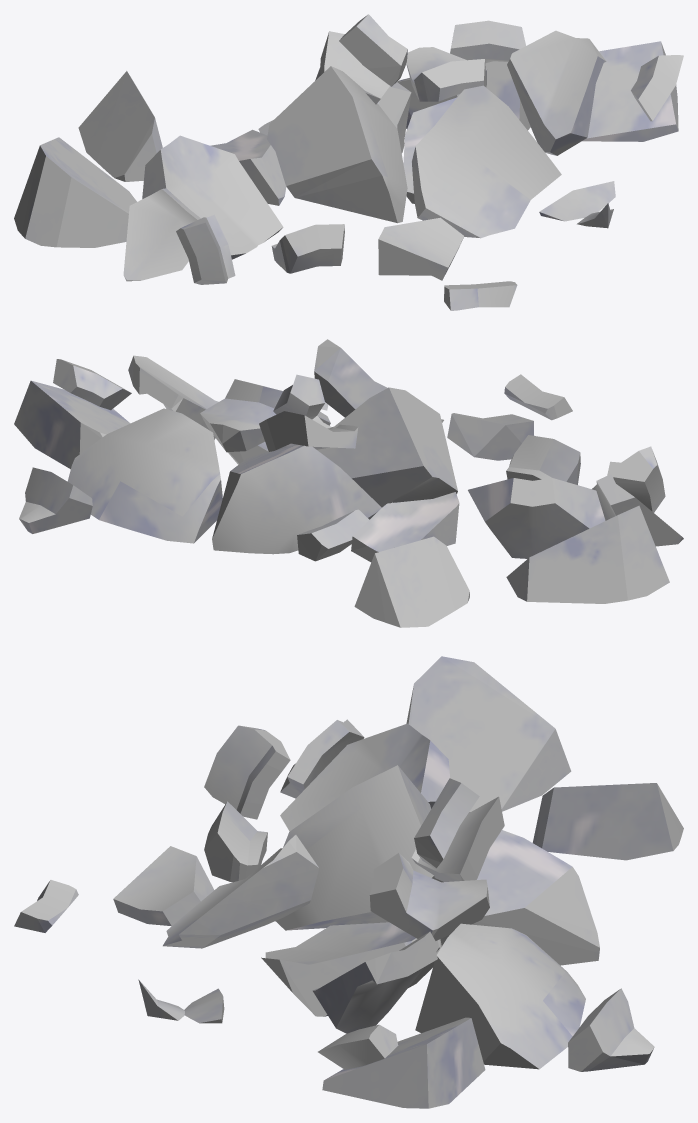
Rendered from Vase_Rubble_Medium.fbx.
The picture shows the model from 3 angles, top to bottom: view 1: azimuth 30°, elevation 25°; view 2: azimuth 150°, elevation 25°; view 3: azimuth 270°, elevation 25°; orthographic projection. The views are drawn at different scales.
Visible parts, largest first — view 1: Vase_Rubble_Medium; view 2: Vase_Rubble_Medium; view 3: Vase_Rubble_Medium.
Boxes of the visible parts, box(x1,y1,x2,y2) form: Vase_Rubble_Medium: box(14, 14, 683, 310); Vase_Rubble_Medium: box(14, 339, 683, 627); Vase_Rubble_Medium: box(14, 656, 683, 1108).
Size of the model in its own units: 79.69 by 17.46 by 59.84.
